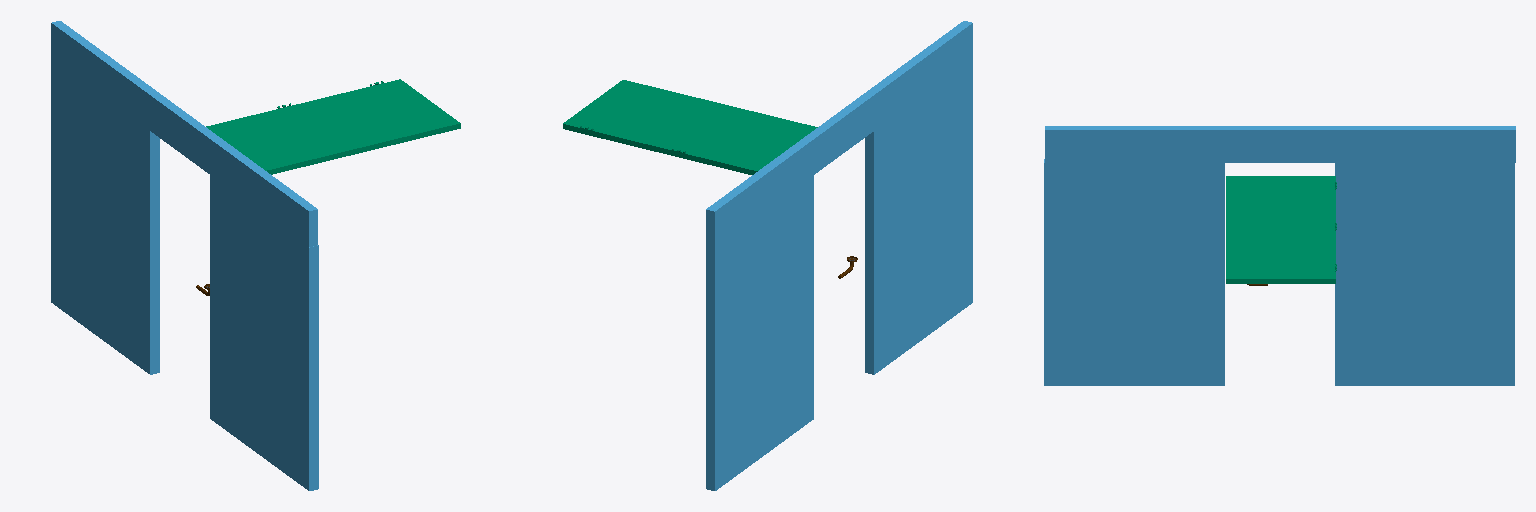
The robot description file, URDF, robot "door_test":
<robot name = 'door_test' xmlns:xacro="http://ros.org/wiki/xacro">
    <!-- <link name = 'world'/> -->
    
    <!-- <joint name = 'world2base' type = 'fixed'>
        <parent link = 'world'/>
        <child link = 'base_link'/>
    </joint> -->

    <link name = 'base_link'/>
        
    <joint name = 'base_joint' type = 'fixed'>
        <parent link = 'base_link'/>
        <origin xyz = '0 0.5 0.0' rpy='0 0 3.14159'/>
        <!-- if move y : the door will slide -->
        <child link = 'door_wall'/>
    </joint>

    <link name = 'door_wall'>
        <visual>
            <geometry>
                <box size='0.08 1.5 2.04'/>
            </geometry>
            <origin xyz = '0 -0.67 1.02' rpy = '0 0 0'/>
        </visual>
        <visual>
            <geometry>
                <box size='0.08 1.5 2.04'/>
            </geometry>
            <origin xyz = '0 1.74 1.02' rpy = '0 0 0'/>
        </visual>
        <visual>
            <geometry>
                <box size='0.08 3.91 0.3'/>
            </geometry>
            <origin xyz = '0 0.532 2.19' rpy = '0 0 0'/>
        </visual>

        <collision name="side_1_:hinge_side">
            <geometry>
                <box size='0.08 1.5 2.04'/>
            </geometry>
            <origin xyz = '0 -0.67 1.02' rpy = '0 0 0'/>
        </collision>
        <collision name="side_2">
            <geometry>
                <box size = '0.05029 0.06858 2.10820'/>
            </geometry>
            <origin xyz="-0.02 1.02 1.05" rpy="0 0 0"/>
        </collision>
        <collision>
            <geometry>
                <box size='0.08 1.5 2.04'/>
            </geometry>
            <origin xyz = '0 1.8 1.02' rpy = '0 0 0'/>
        </collision>
        <collision name="top">
            <geometry>
                <box size='0.08 3.91 0.3'/>
            </geometry>
            <origin xyz = '0 0.532 2.19' rpy = '0 0 0'/>
        </collision>
        <inertial>
            <origin xyz="0 0 0" rpy="0 0 0"/>
            <mass value="10000.0"/>
            <inertia ixx="0.0" ixy="0.0" ixz="0.0" iyy="0.0" iyz="0.0" izz="0.0"/>
        </inertial>
    </link>

    <joint name = 'door_hinge' type = 'revolute'>
        <axis xyz = '0 0 1' rpy = '0 0 0 '/>
        <origin xyz = '-0.07 0.06858 2.040'/>
        <limit lower = '0' upper = '1.57' effort='10000' velocity="100.00"/>
        <dynamics damping="25.0" friction="0.0"/>
        <parent link = 'door_wall'/>
        <child link = 'door'/>
    </joint>

    <link name = 'door'>
        <visual>
            <geometry>
                <mesh filename = './meshes/door.dae'/>
            </geometry>
            <origin xyz = '-0.05 0 0' rpy = '-1.57 0 1.57'/>
            <color rgba = '0.5 0.5 0.5 1.0'/>
        </visual>
        <collision name="door_collision">
            <geometry>
                <mesh filename = './meshes/door.dae'/>
            </geometry>
            <origin xyz = '-0.05 0 0' rpy = '-1.57 0 1.57'/>
        </collision>
        <inertial>
            <origin xyz="0.4569 0.0349 1.016" rpy="0 0 0"/>
            <mass value="41.3256"/>
            <inertia ixx="14.2053" ixy="0.0004" ixz="0.0000" iyy="17.1997" iyz="0.0000" izz="3.0298"/>
        </inertial>
    </link>

    <joint name = 'door_handle' type = 'revolute'>
        <axis xyz = '1 0 0' rpy = '0 0 0 '/>
        <parent link = 'door'/>
        <origin xyz = '0.035 0.75 -1.02'/>
        <limit lower = '0' upper = '0.5236' effort='100' velocity="1000.00"/>
        <dynamics damping="0.01" friction="0.0"/>
        <child link = 'door_handles'/>
    </joint>

    <link name = 'door_handles'>
        <visual>
            <geometry>
                <mesh filename = './meshes/DH-02201.dae' scale='1.5 1.5 1.5'/>
            </geometry>
            <origin xyz = '-0.02 0 0' rpy = '-1.57 3.141592 1.57'/>
            <color rgba = '0.55 0.5 0.5 1.0'/>
        </visual>
        <!-- <visual>
            <geometry>
                <mesh filename = './meshes/DH-02201.dae' scale='1.0 1.0 1.0'/>
            </geometry>
            <origin xyz = '0.04 0 0' rpy = '0 0 -1.57'/>
             <color rgba = '0.5 0.5 0.5 1.0'/>
        </visual> -->
        <collision name="door_handles_collision">
            <geometry>
                <mesh filename="./meshes/DH.stl" scale='1.25 1.25 1.25'/>
            </geometry>
            <origin xyz = '-0.03 0 0' rpy = '3.141592 3.141592 1.57'/>
        </collision>
        <!-- <collision name="door_handles_collision">
            <geometry>
                <mesh filename="./meshes/DH-02201_collision.dae" scale='1.0 1.0 1.0'/>
            </geometry>
            <origin xyz = '0.045 0 0' rpy = '0 0 -1.57'/>
        </collision> -->
        <inertial>
            <origin xyz="0.0 0.0 0.0" rpy="3.14159 0 1.57"/>
            <mass value="1.0"/>
            <!-- <inertia ixx="14.2053" ixy="0.0004" ixz="0.0000" iyy="17.1997" iyz="0.0000" izz="3.0298"/> -->
        </inertial>
    </link>
    
    <joint name = 'handle2latch' type = 'fixed'>
        <parent link = 'door_handles'/>
        <child link = 'door_latch'/>
    </joint>

    <link name='door_latch'>
        <collision>
            <geometry>
                <box size='0.001 0.14 0.01'/>
            </geometry>
            <origin xyz = '0.043 0.1 0' rpy = '0 0 0'/>
        </collision>
    </link>
    <!-- <gazebo reference="world">
        <material>Gazebo/Red</material>
    </gazebo> -->

</robot>

--- What the picture shows (computed from the rendered views, not written in the file) ---
The picture shows the robot from 3 angles, left to right: view 1: azimuth 30°, elevation 25°; view 2: azimuth 150°, elevation 25°; view 3: azimuth 270°, elevation 25°; orthographic projection.
Robot: door_test — 5 links, 4 joints (2 revolute, 2 fixed); root link base_link; default pose: all joints at 0.
Links seen in each view (by area): view 1: door_wall, door; view 2: door_wall, door; view 3: door_wall, door.
Boxes of the visible links, <box> form: door_wall: <box>51,21,318,490</box>; door: <box>206,79,460,174</box>; door_wall: <box>706,21,972,490</box>; door: <box>563,80,817,174</box>; door_wall: <box>1044,126,1515,385</box>; door: <box>1226,176,1336,283</box>.
Size in the robot's own frame: 2.19 by 3.91 by 2.34 metres.
Meshes: 2 distinct files referenced, 2 mesh visuals loaded (2 Collada DAE).